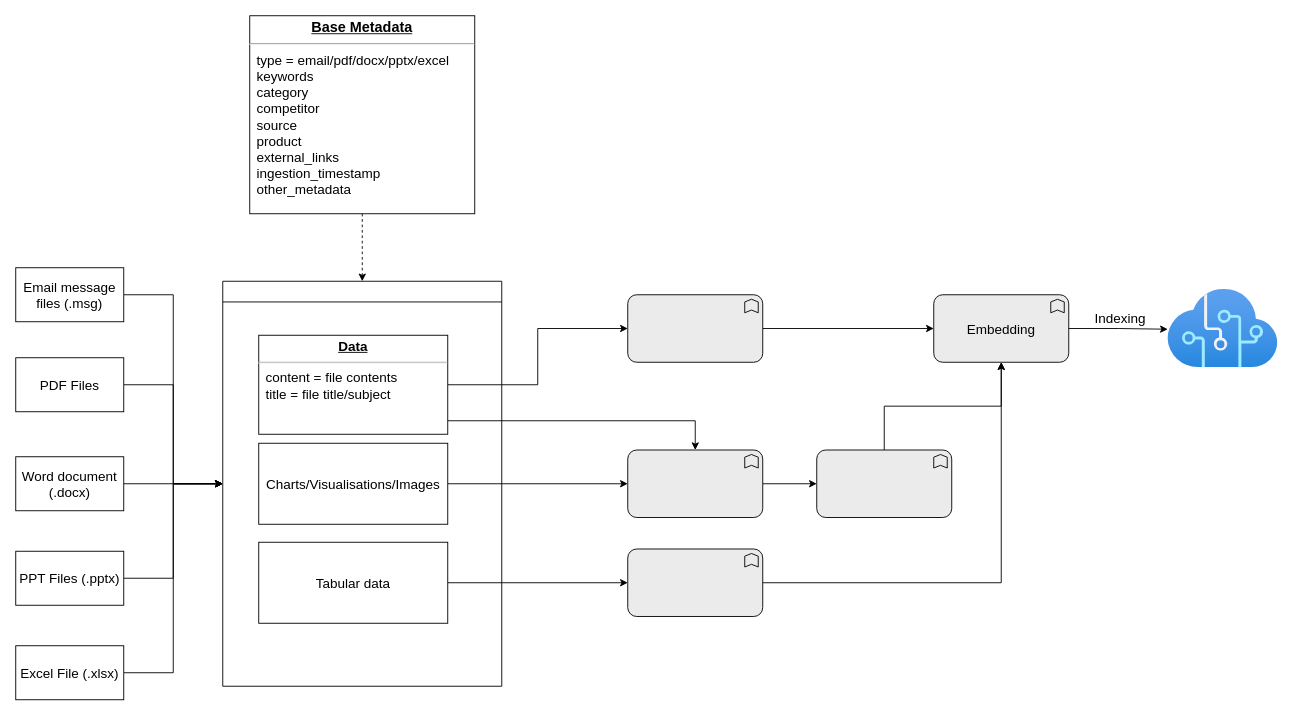
This 1293x716 diagram has some shape labels left out. Each missing label, with the centre of its shape:
"Chunking" belongs at pixel 695 328.
"Data" belongs at pixel 362 483.
"GPT4 vision" belongs at pixel 695 483.
"Structure as html table" belongs at pixel 695 582.
"Summarisation" belongs at pixel 884 483.
